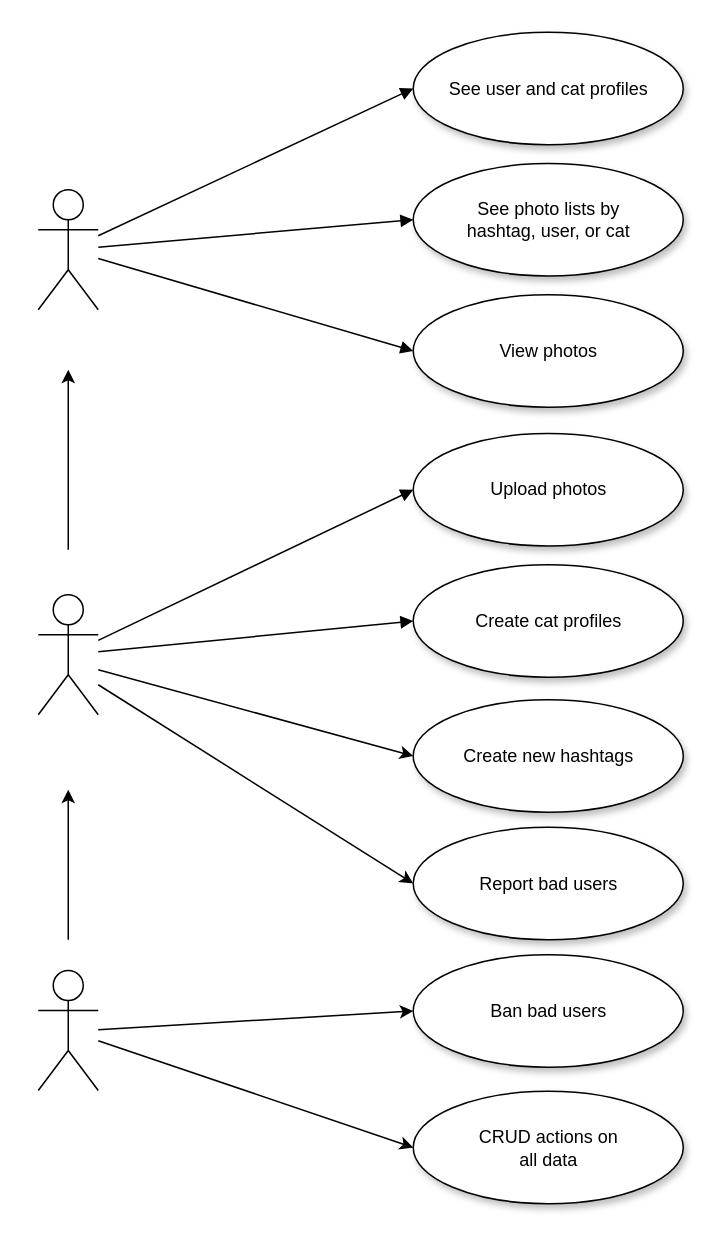
The diagram is 719 pixels wide and 1241 high, and some of its shapes have lost their labels. Each missing label, with the centre of its shape:
"Admin" goes at (x=67, y=1029).
"Guest" goes at (x=67, y=249).
"User" goes at (x=67, y=654).
